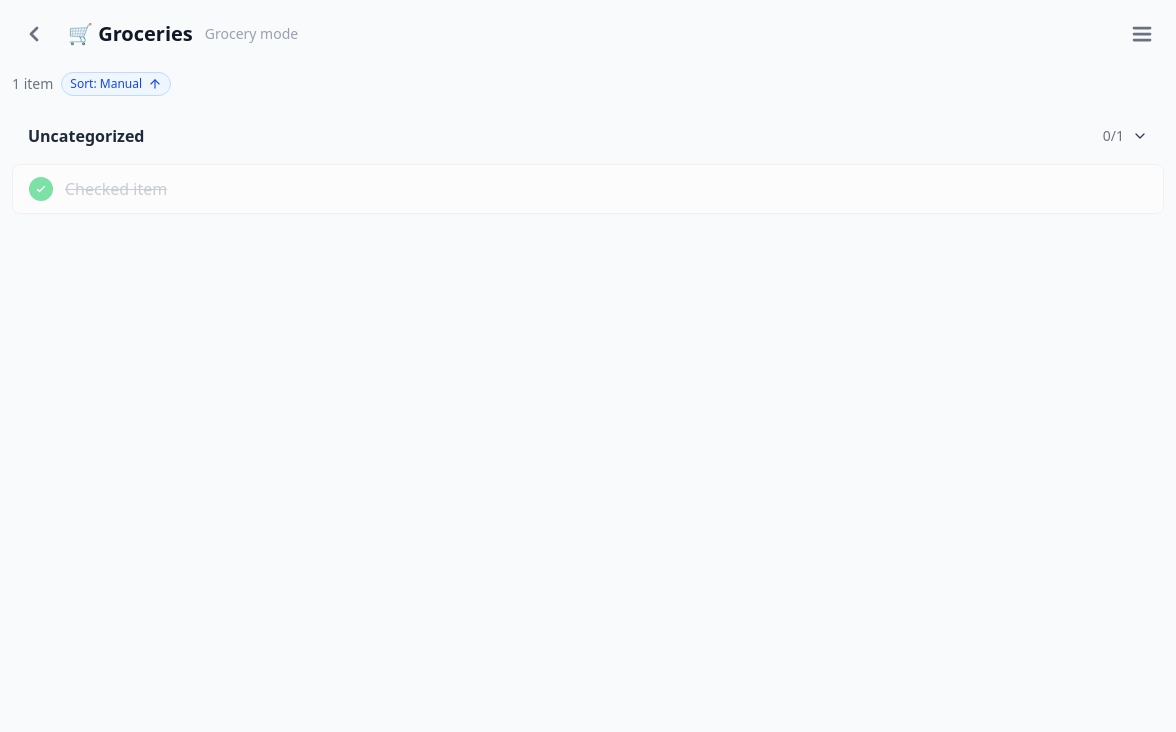
Grocery page capabilities › keeps navigation and presentation controls but hides mutation controls for viewers
Click the button named "List options" at {"x": 1142, "y": 34}, box x1=1120 y1=12 x2=1164 y2=56
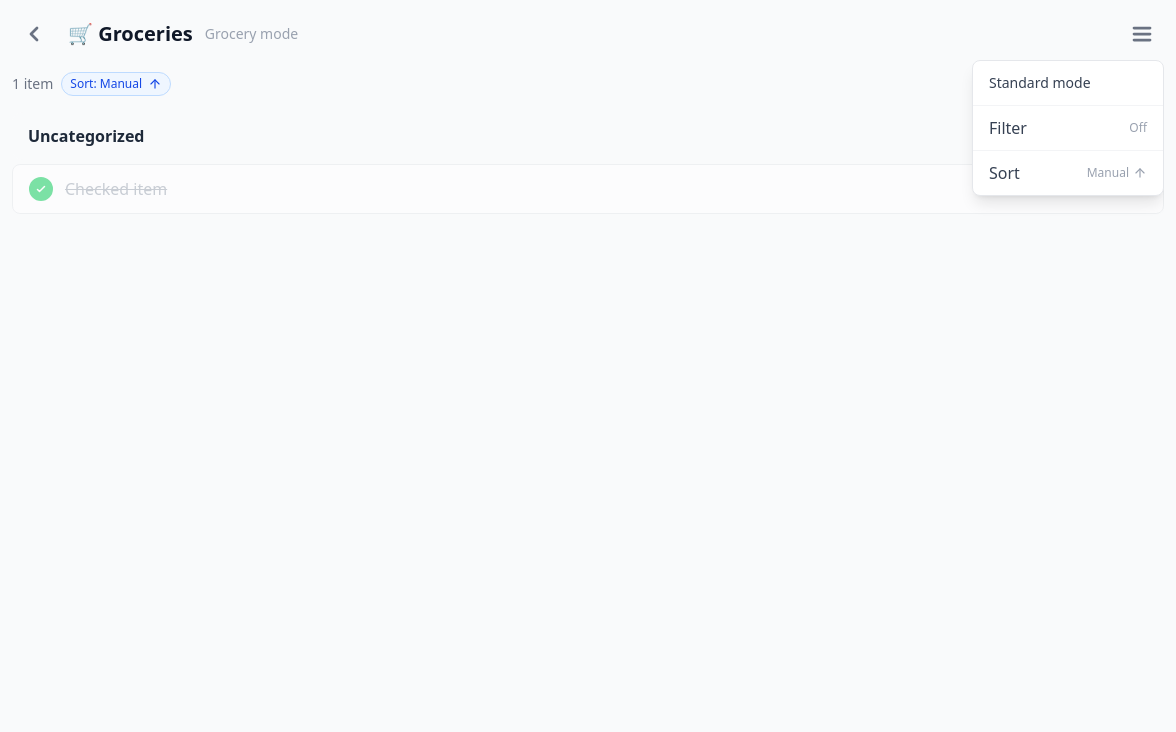
Check: the link "Standard mode" is shown, box x1=989 y1=73 x2=1090 y2=92
Check: the button "Filter Off" is shown
Check: the button "Sort Manual" is shown, box x1=973 y1=155 x2=1163 y2=191
Click the button "Filter Off" at {"x": 1068, "y": 128}, box x1=973 y1=110 x2=1163 y2=146
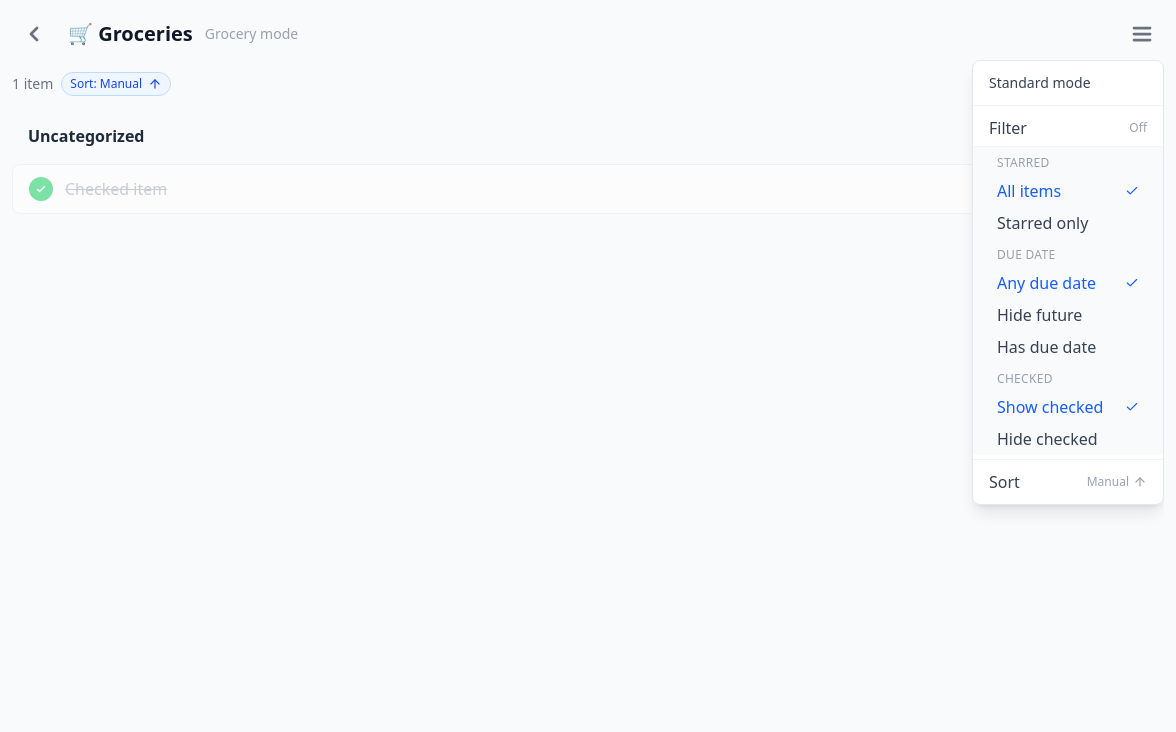
Check: the button "Hide checked" is shown, box x1=973 y1=423 x2=1163 y2=455
